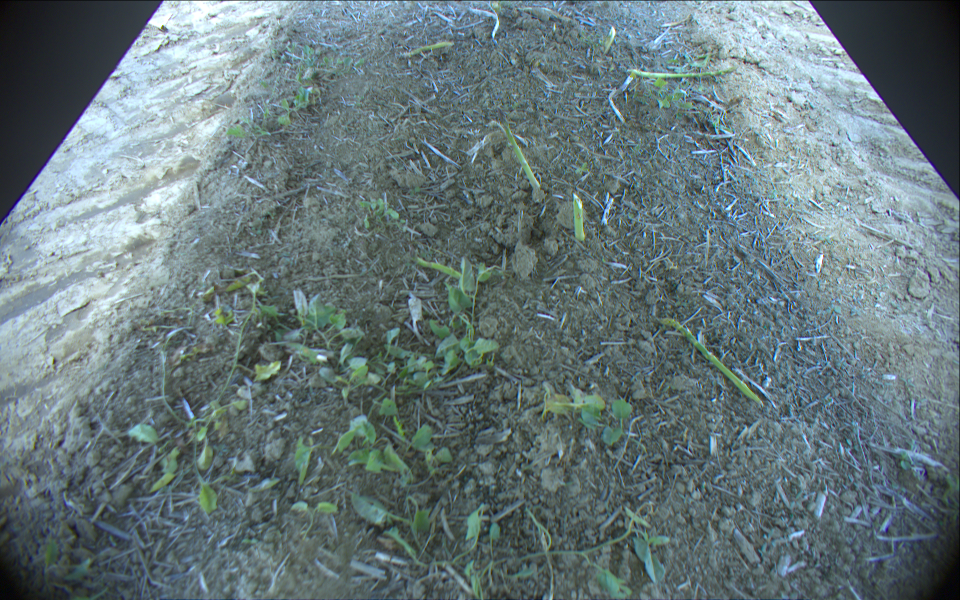aspa: (657, 316, 765, 406), (504, 115, 545, 199), (629, 64, 739, 79), (417, 256, 467, 281), (397, 42, 454, 58), (572, 194, 586, 243), (600, 26, 615, 53)
